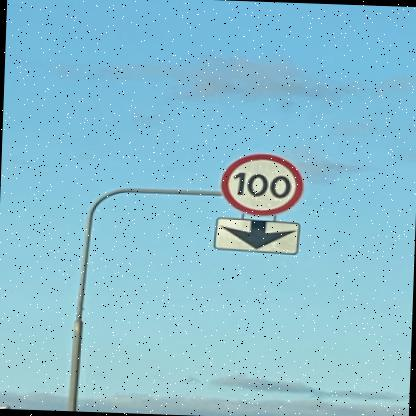speedlimit: (218, 152, 303, 216)
